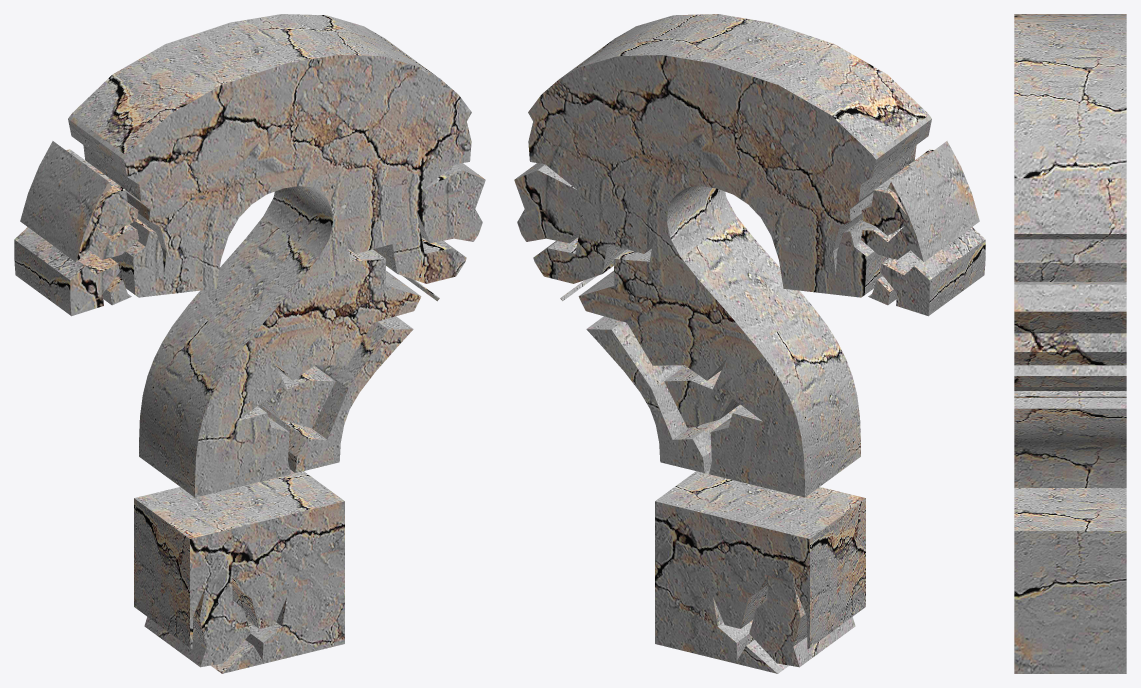
File: Question.FBX
3 renders of one model, left to right at view 1: azimuth 30°, elevation 25°; view 2: azimuth 150°, elevation 25°; view 3: azimuth 270°, elevation 25°, orthographic.
Visible parts, largest first — view 1: Question; view 2: Question; view 3: Question.
Boxes of the visible parts, x1,y1,x2,y2 form: Question: [14, 14, 485, 673]; Question: [514, 14, 985, 673]; Question: [1014, 14, 1126, 673].
Size of the model in its own units: 64.28 by 87.89 by 15.
Materials: 1 (1 with a texture image).
